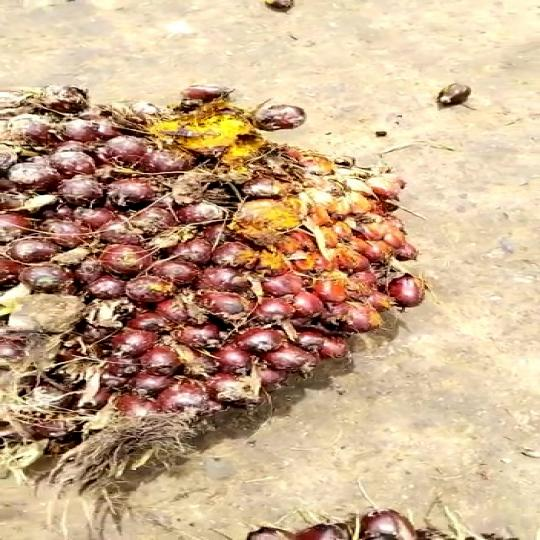kurang masak: (0, 60, 452, 487)
